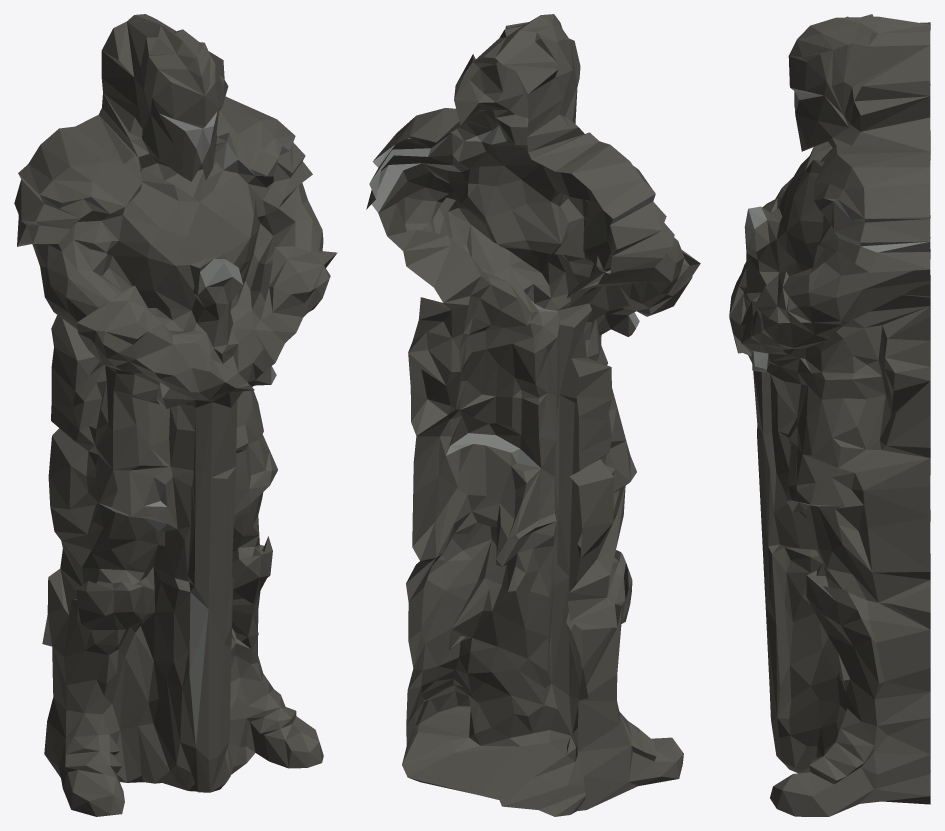
Rendered from MDungeon_KnightStatue_Low.FBX.
The picture shows the model from 3 angles, left to right: view 1: azimuth 30°, elevation 25°; view 2: azimuth 150°, elevation 25°; view 3: azimuth 270°, elevation 25°; orthographic projection.
Parts seen in each view (by area): view 1: MDungeon_KnightStatue_Low_LOD0; view 2: MDungeon_KnightStatue_Low_LOD0; view 3: MDungeon_KnightStatue_Low_LOD0.
Boxes of the visible parts, x1=… form: MDungeon_KnightStatue_Low_LOD0: x1=14, y1=14, x2=337, y2=816; MDungeon_KnightStatue_Low_LOD0: x1=366, y1=14, x2=700, y2=816; MDungeon_KnightStatue_Low_LOD0: x1=729, y1=14, x2=930, y2=816.
Size of what is drawn, in the model's own units: 5.13 by 12.46 by 3.03.
